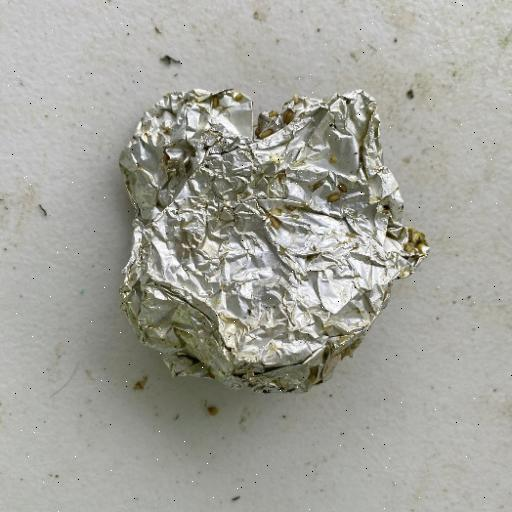Metal: (116, 85, 430, 395)
